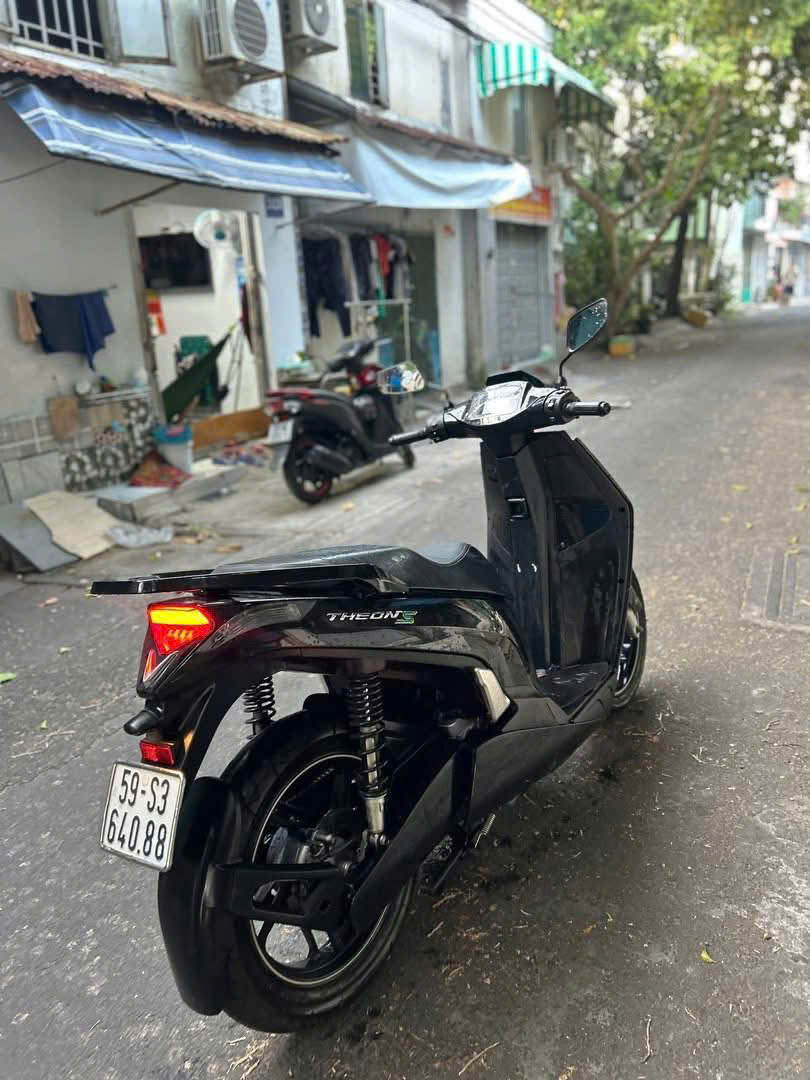Bien-so: (97, 752, 185, 873)
